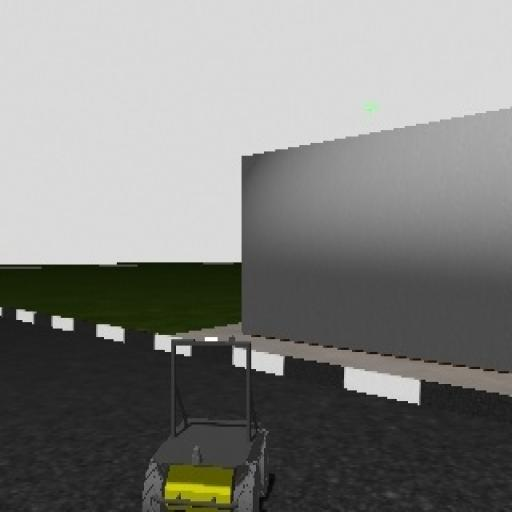huskya200: (143, 323, 277, 512)
